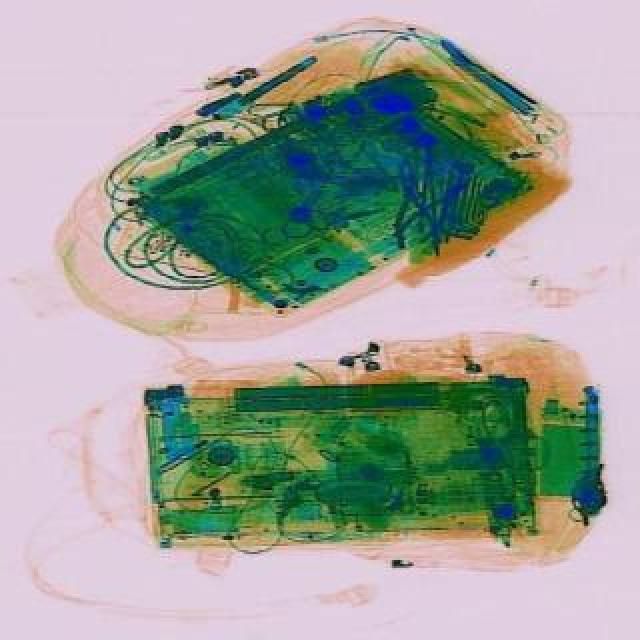wrench: (388, 172, 472, 252), (380, 158, 436, 250)
